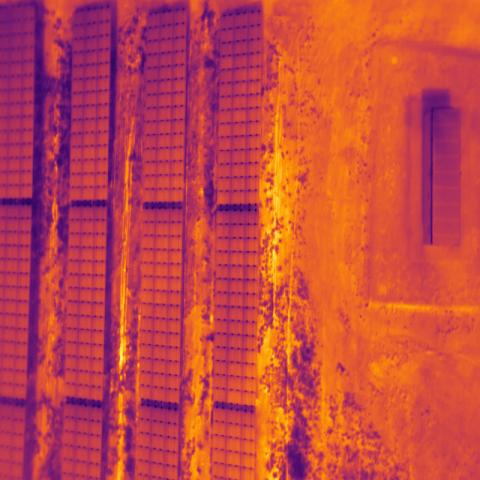fault: (219, 56, 235, 70)
